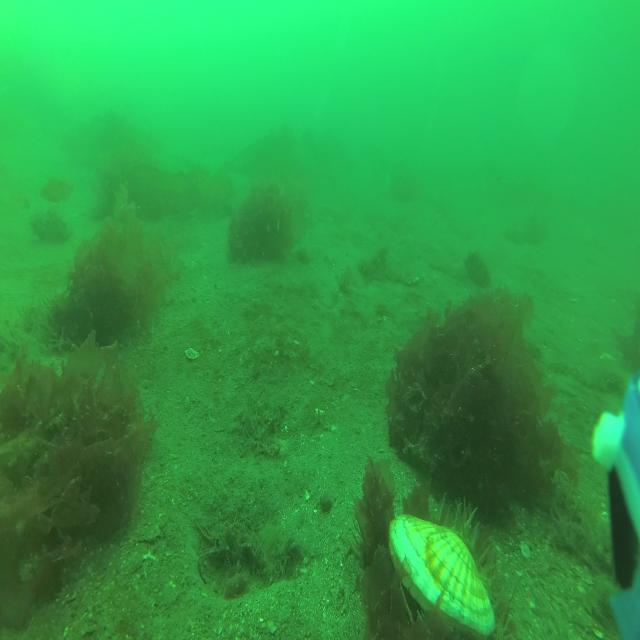scallop: (390, 513, 495, 640), (184, 346, 200, 362)
